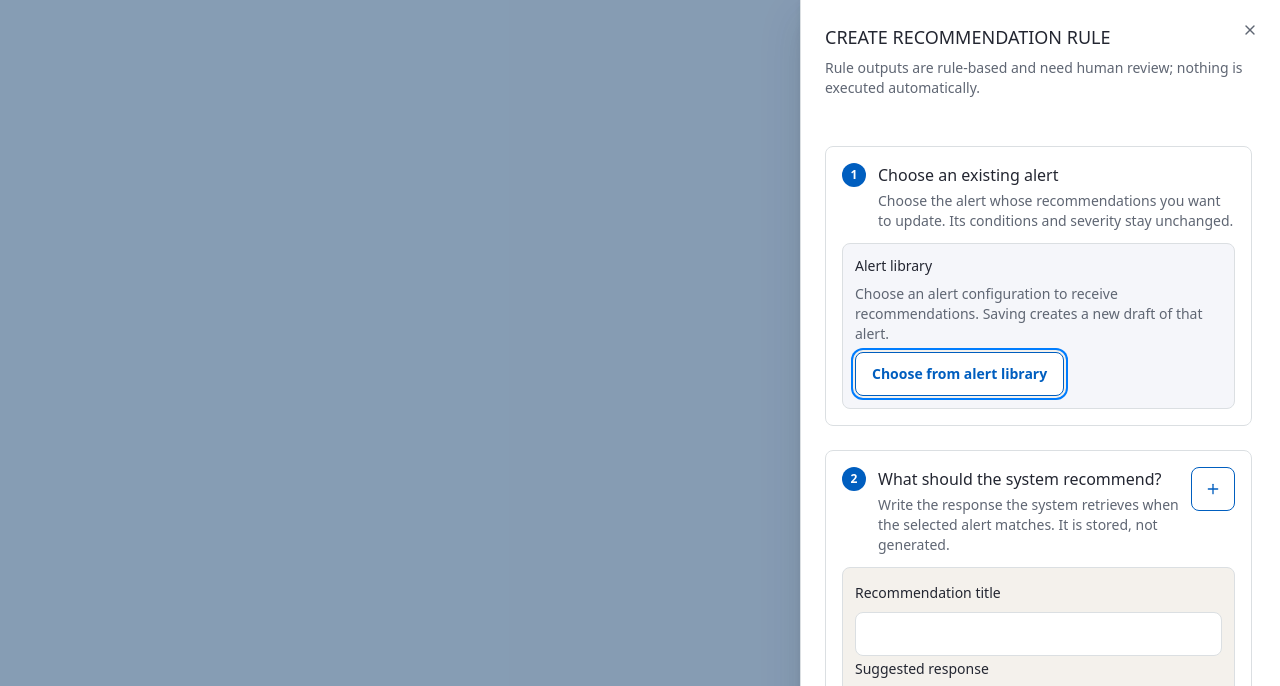
RuleDrawer › shows the linked project and alert details in the recommendation alert library
Step 1. Click the button "Choose from alert library" → (960, 374), box [855,352,1064,396]
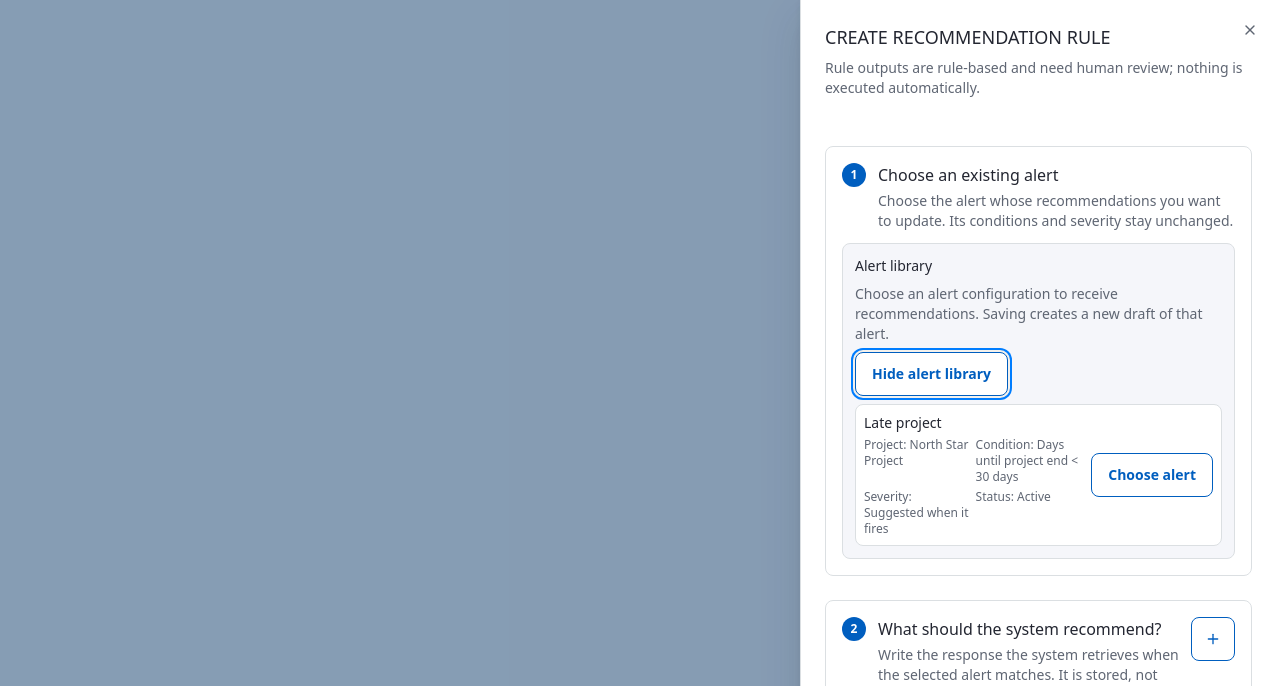
expect the text "Project: North Star Project" is shown: met, box [864,437,972,485]
expect the text "Condition: Days until project end < 30 days" is shown: met, box [976,437,1083,485]
expect the text "Severity: Suggested when it fires" is shown: met, box [864,489,972,537]
